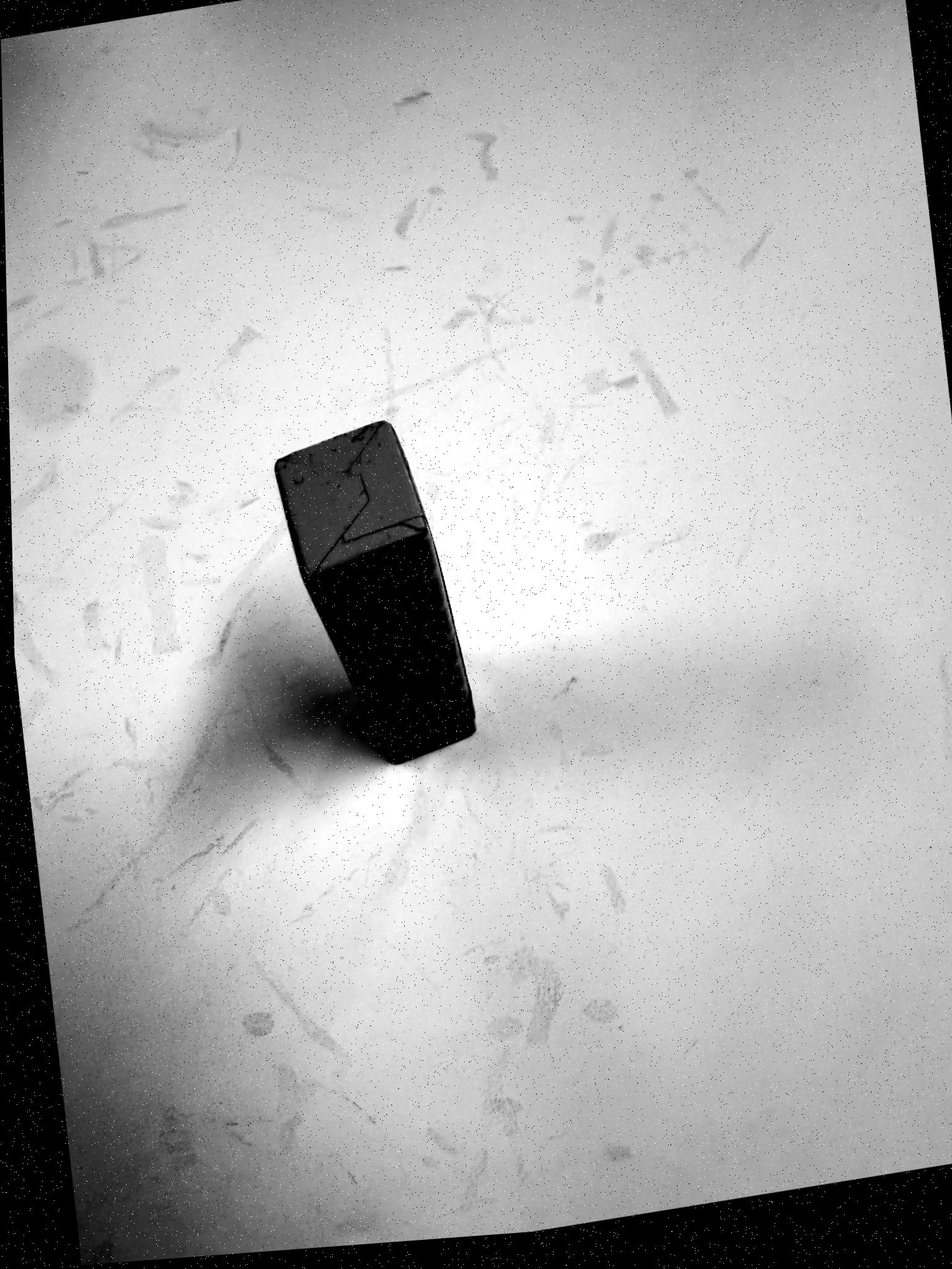gum_yellow: (278, 418, 481, 763)
